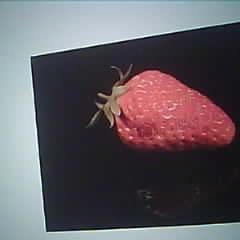straw-ripe: (108, 69, 235, 152)
